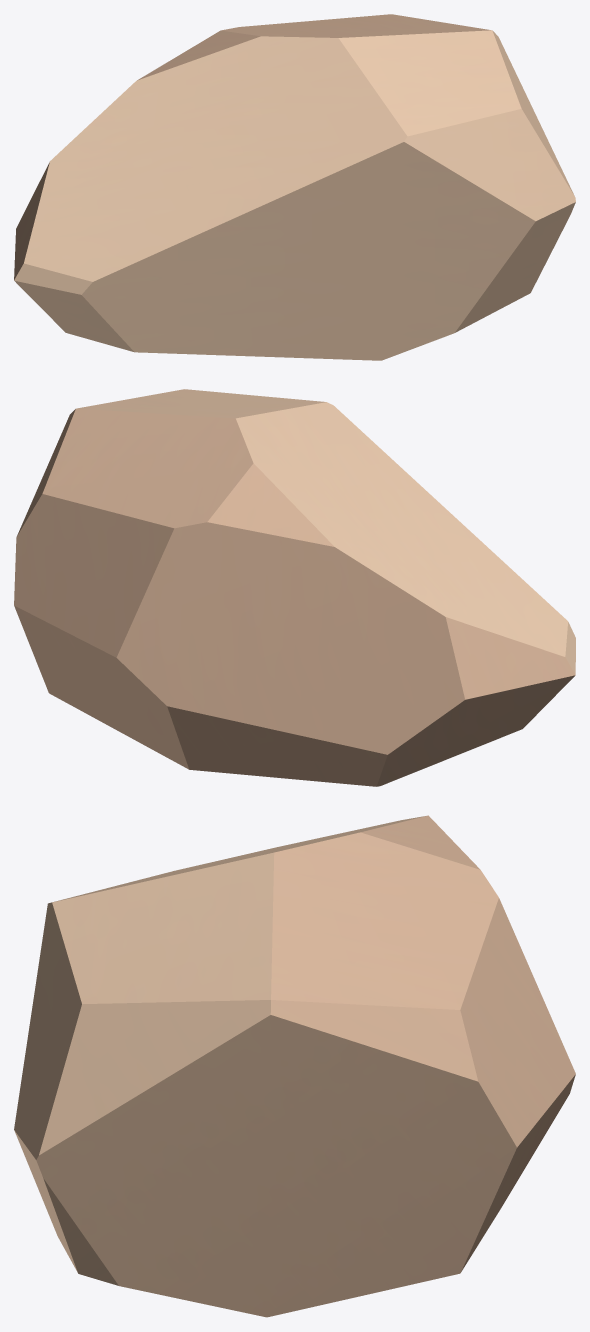
The model's file is Rock_2.fbx.
3 renders of one model, top to bottom at view 1: azimuth 30°, elevation 25°; view 2: azimuth 150°, elevation 25°; view 3: azimuth 270°, elevation 25°, orthographic. The views are drawn at different scales.
Visible parts, largest first — view 1: Rocher.002; view 2: Rocher.002; view 3: Rocher.002.
Boxes of the visible parts, x1,y1,x2,y2 form: Rocher.002: (14, 14, 575, 360); Rocher.002: (14, 389, 575, 786); Rocher.002: (14, 815, 575, 1317).
Bounding box in the file's own units: 0.1418 × 0.0819 × 0.1003.
